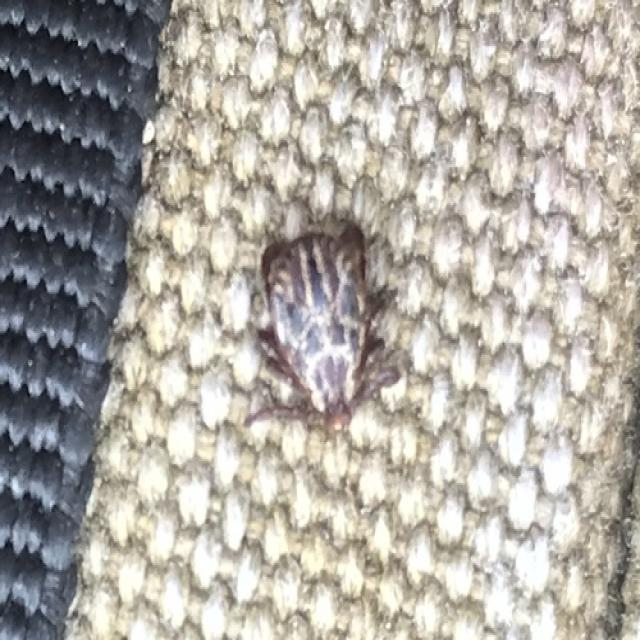Dermacentor Reticulatus-M: (244, 222, 401, 430)
